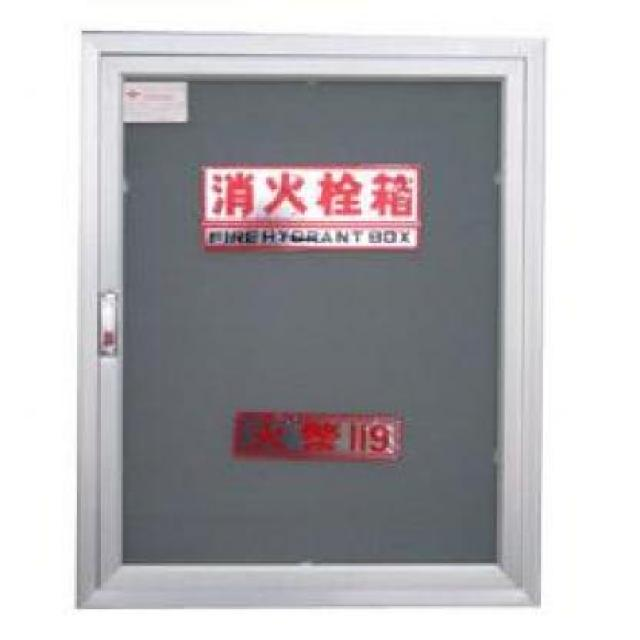firehydrant: (70, 22, 552, 613)
